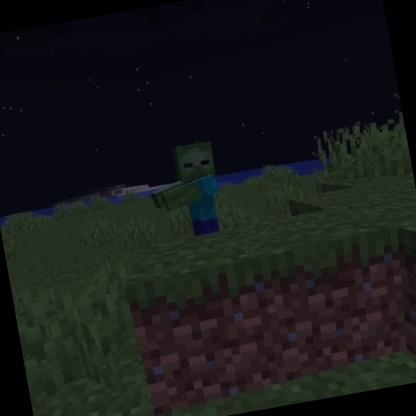zombie: (141, 137, 235, 243)
